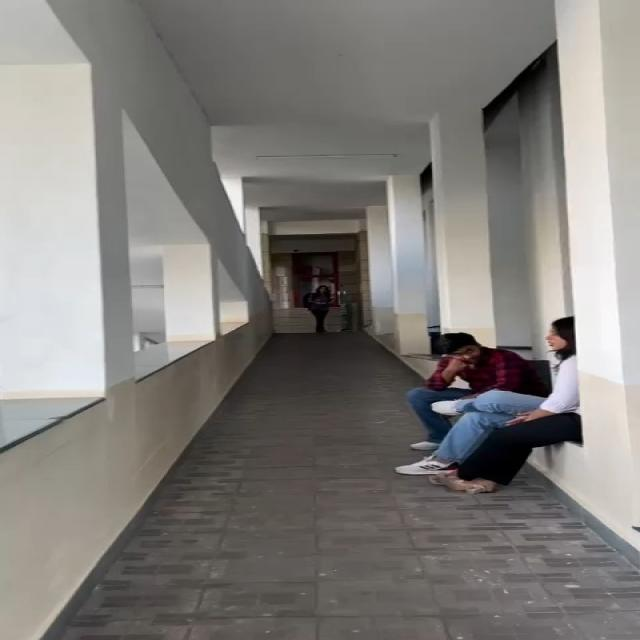floor: (177, 489, 600, 640), (247, 332, 400, 483)
moving_object: (403, 334, 601, 509)
wall: (0, 0, 263, 391), (376, 89, 640, 308)
